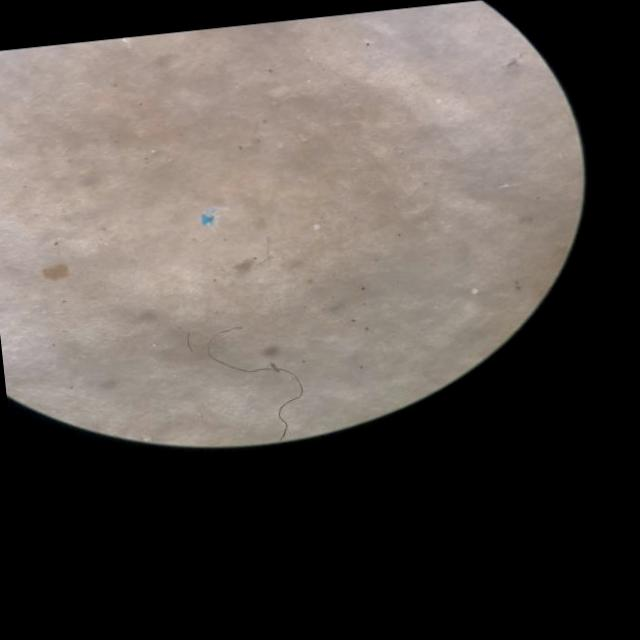fiber: (210, 351, 302, 439)
film: (201, 207, 217, 225)
fragment: (42, 263, 68, 279)
pellet: (472, 288, 478, 295), (313, 224, 319, 230)
